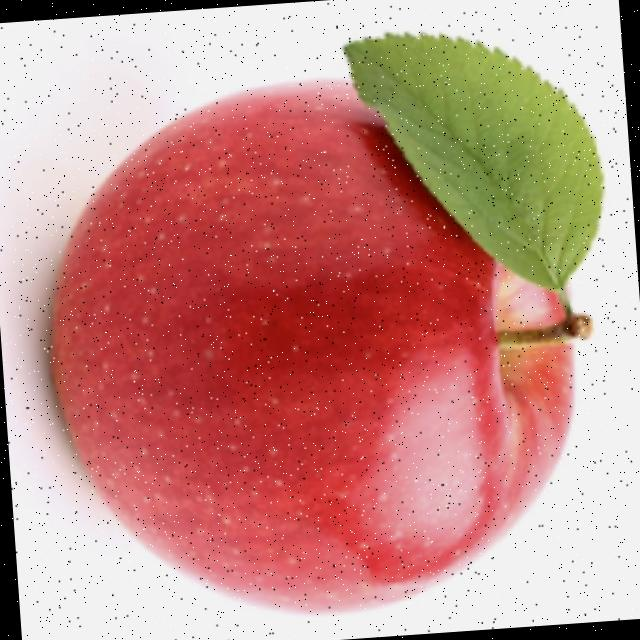Ripe: (22, 44, 608, 640)
